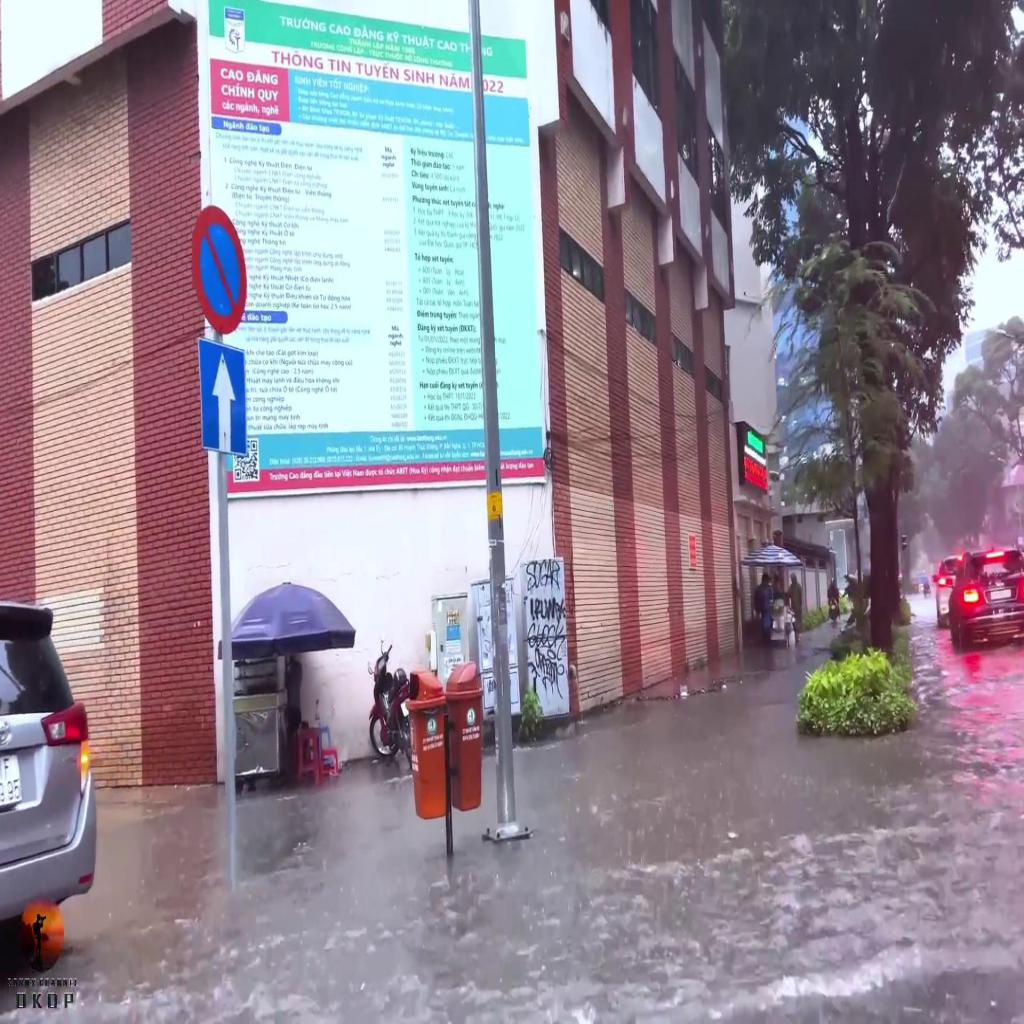cam_do_xe: (191, 204, 246, 335)
duong_mot_chieu: (199, 338, 246, 455)
